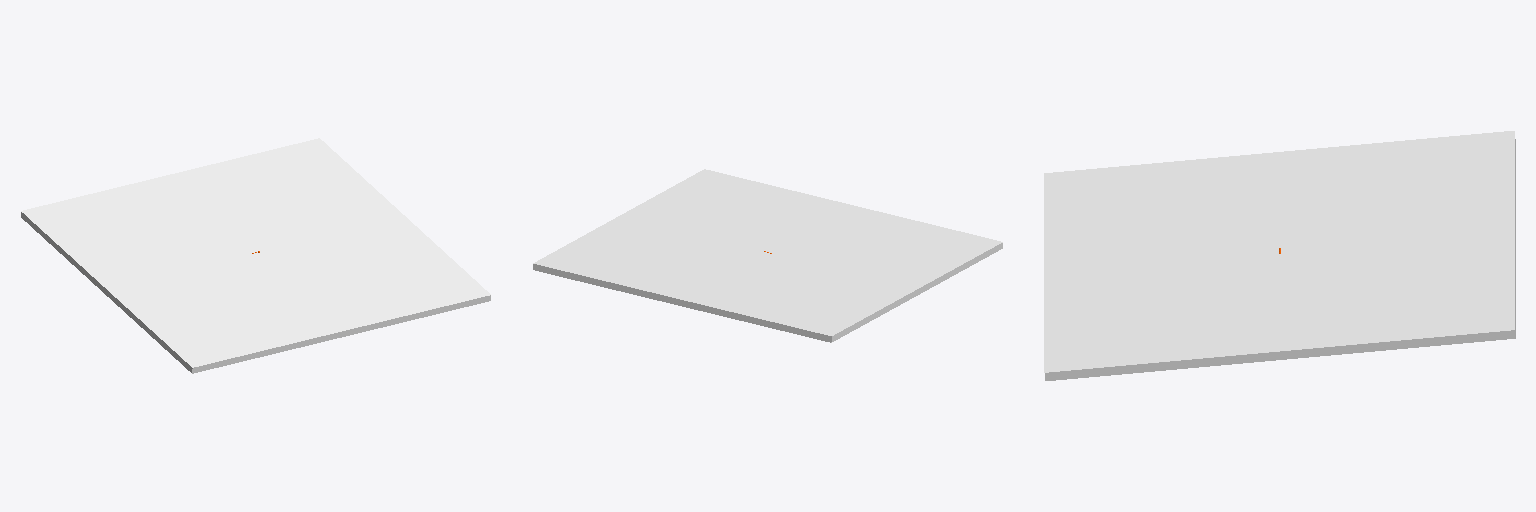
robot.urdf — elbow:
<?xml version="1.0" ?>
<robot name="elbow">

	<material name="white">
		<color rgba="1.0 1.0 1.0 1.0"/>
	</material>
	<material name="red">
		<color rgba="1.0 0.2 0.2 1.0"/>
	</material>
	<material name="orange">
		<color rgba="1.0 0.423529411765 0.0392156862745 1.0"/>
	</material>

	<!-- Root World Link -->
	<link name="world"/>

	<!-- Ground -->
	<joint name="ground" type="fixed">
		<parent link="world"/>
		<child link="ground"/>
		<origin rpy="0.1 0. 0" xyz="0 0 -1"/>
	</joint>


	<link name="ground">
		<visual>
			<origin rpy="0. 0. 0" xyz="0 0 0"/>
			<geometry>
				<box size="100 100 2"/>
			</geometry>
			<material name="white"/>
		</visual>
		<collision>
			<origin rpy="0. 0. 0" xyz="0 0 0"/>
			<geometry>
				<box size="100 100 2"/>
			</geometry>
		</collision>
	</link>


	<!-- Actual elbow -->
	<joint name="freeFlyer" type="floating">
		<parent link="world"/>
		<child link="freeFlyer"/>
	</joint>

	<!-- root -->
	<link name="freeFlyer">
		<visual>
			<origin rpy="0 0 0" xyz="0 0 0"/>
			<geometry>
				<sphere radius=".3"/>
			</geometry>
			<material name="orange"/>
		</visual>
		<collision>
			<origin rpy="0 0 0" xyz="0 0 0"/>
			<geometry>
				<sphere radius=".3"/>
			</geometry>
		</collision>

		<inertial>
			<origin rpy="0 0 0" xyz="0 0 0"/>
			<mass value="1."/>
			<inertia ixx="0.04" ixy="0." ixz="0." iyy="0.04" iyz="0." izz="0.04"/>
		</inertial>
	</link>

	<joint name="ext" type="fixed">
		<parent link="freeFlyer"/>
		<child link="ext"/>
		<axis xyz="0 1 0" />
	</joint>

	<link name="ext">
		<visual>
			<origin rpy="0 0 0" xyz="-1 0 0"/>
			<geometry>
				<sphere radius=".3"/>
			</geometry>
			<material name="orange"/>
		</visual>
		<collision>
			<origin rpy="0 0 0" xyz="-1 0 0"/>
			<geometry>
				<sphere radius=".3"/>
			</geometry>
		</collision>

		<inertial>
			<origin rpy="0 0 0" xyz="-1 0 0"/>
			<mass value="1."/>
			<inertia ixx="0.04" ixy="0." ixz="0." iyy="0.04" iyz="0." izz="0.04"/>
		</inertial>
	</link>

	<joint name="arm" type="revolute">
		<parent link="freeFlyer"/>
		<child link="arm"/>
		<axis xyz="0 1 0" />
		<limit lower="-1" upper="1" effort="10000" velocity="10000"/>
	</joint>

	<link name="arm">
		<visual>
			<origin rpy="0 0 0" xyz="1 0 0"/>
			<geometry>
				<sphere radius=".3"/>
			</geometry>
			<material name="orange"/>
		</visual>
		<collision>
			<origin rpy="0 0 0" xyz="1 0 0"/>
			<geometry>
				<sphere radius=".3"/>
			</geometry>
		</collision>

		<inertial>
			<origin rpy="0 0 0" xyz="1 0 0"/>
			<mass value="1."/>
			<inertia ixx="0.04" ixy="0." ixz="0." iyy="0.04" iyz="0." izz="0.04"/>
		</inertial>
	</link>
</robot>

--- Render facts (derived) ---
3 views of the same robot in one strip: view 1: azimuth 30°, elevation 25°; view 2: azimuth 150°, elevation 25°; view 3: azimuth 270°, elevation 25° (orthographic).
Robot: elbow — 5 links, 4 joints (1 revolute, 2 fixed, 1 floating); root link world; default pose: every joint at zero.
Visible links, largest first — view 1: ground; view 2: ground; view 3: ground.
Link boxes in pixels (x1,y1,x2,y2): ground: (21,138,490,373); ground: (533,169,1002,342); ground: (1044,131,1515,380).
Bounding box of the posed robot: 100 × 99.7 × 11.97 m (x, y, z).
Geometry: primitives only (box / cylinder / sphere), no mesh files.